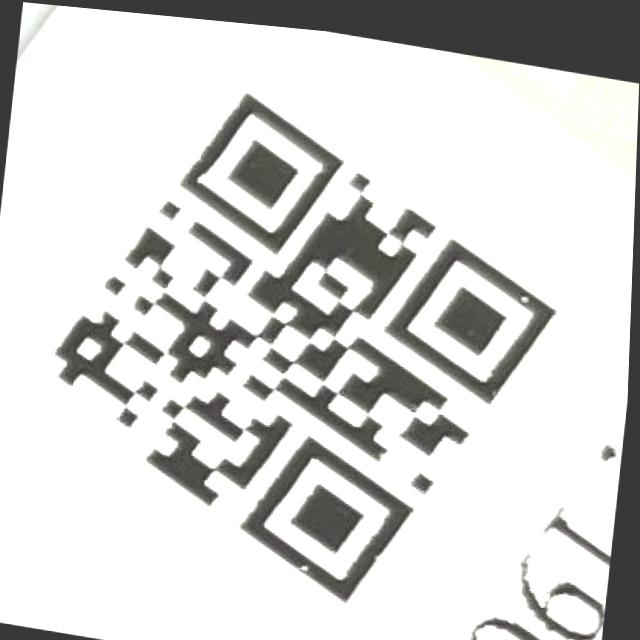QR_CODE: (32, 61, 576, 624)
